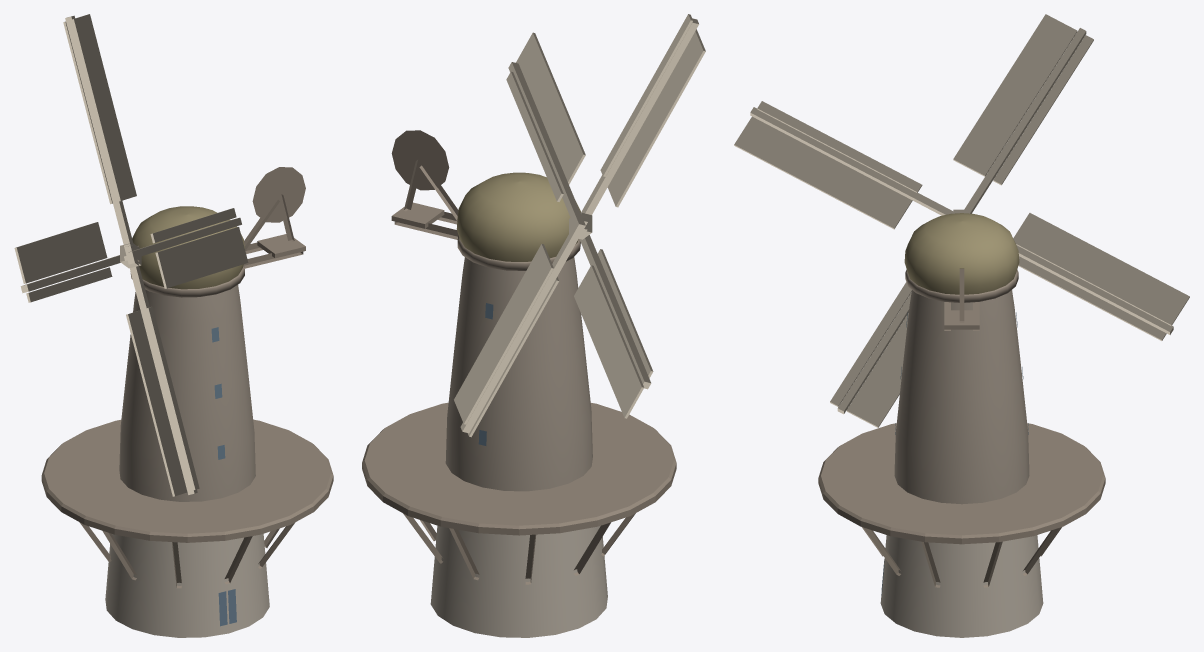
File: sf-dutch-windmill.glb
The picture shows the model from 3 angles, left to right: view 1: azimuth 30°, elevation 25°; view 2: azimuth 150°, elevation 25°; view 3: azimuth 270°, elevation 25°; orthographic projection. The views are drawn at different scales.
Visible parts, largest first — view 1: Dutch Windmill, sails; view 2: Dutch Windmill, sails; view 3: Dutch Windmill, sails.
Part boxes in pixels (x1,y1,x2,y2): Dutch Windmill: (41, 167, 333, 637); sails: (14, 14, 248, 496); Dutch Windmill: (362, 130, 676, 637); sails: (454, 14, 705, 437); Dutch Windmill: (818, 213, 1105, 637); sails: (734, 14, 1189, 427).
Bounding box in the file's own units: 18 × 38.89 × 28.58.
